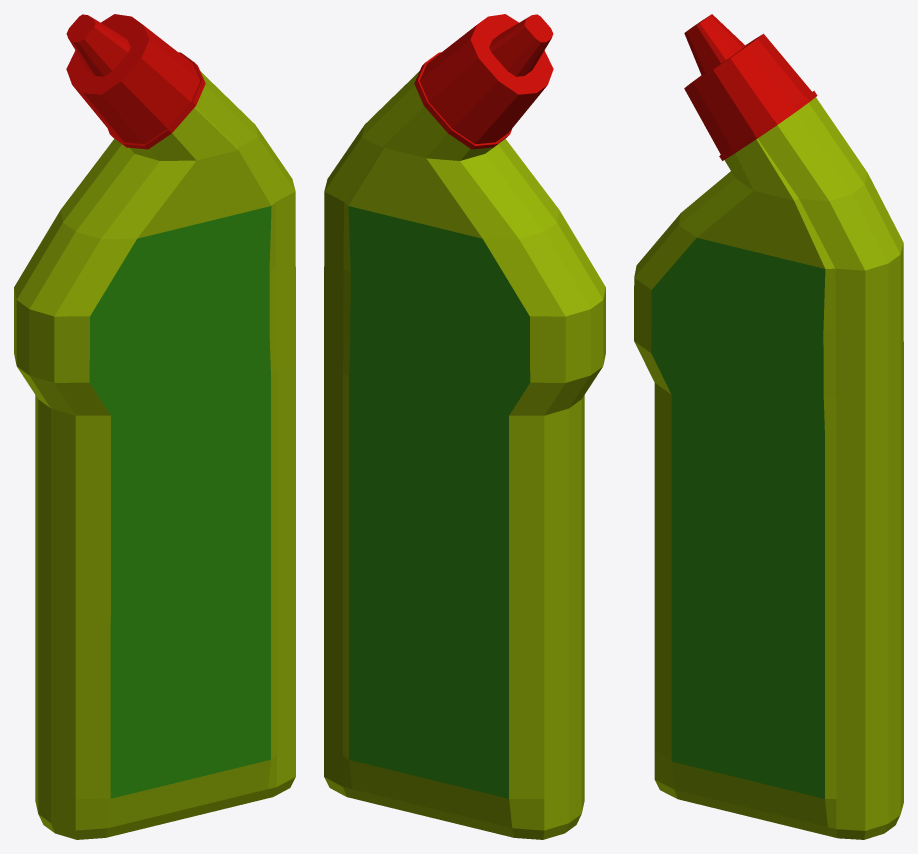
Rendered from Ma_Detergent_2.fbx.
3 renders of one model, left to right at view 1: azimuth 30°, elevation 25°; view 2: azimuth 150°, elevation 25°; view 3: azimuth 330°, elevation 25°, orthographic. The views are drawn at different scales.
Visible parts, largest first — view 1: Ma_Detergent_2; view 2: Ma_Detergent_2; view 3: Ma_Detergent_2.
Part boxes in pixels (<box>): Ma_Detergent_2: <box>14,14,295,839</box>; Ma_Detergent_2: <box>324,14,605,839</box>; Ma_Detergent_2: <box>634,14,903,839</box>.
Size of the model in its own units: 75.51 by 28.68 by 221.
